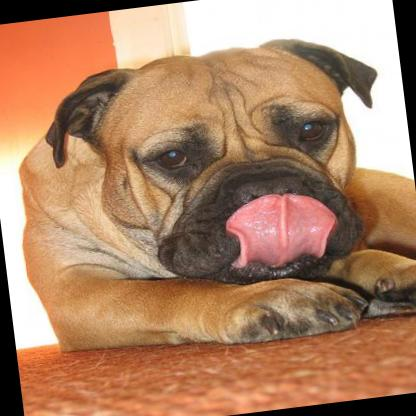bull_mastiff: (0, 23, 416, 368)
